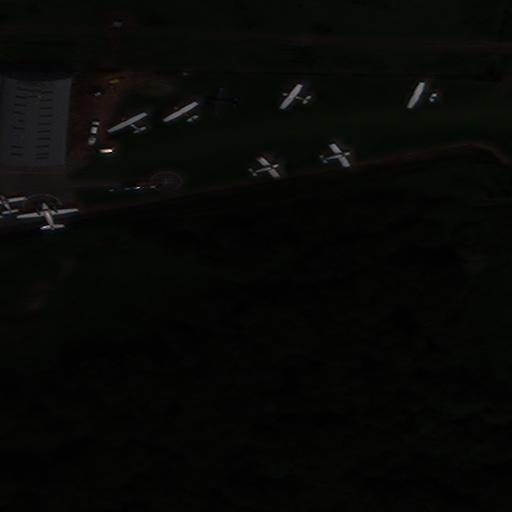Small Civil Transport: (16, 202, 77, 231), (206, 87, 238, 114), (105, 111, 144, 132), (406, 81, 437, 107), (278, 83, 309, 108), (320, 141, 351, 166), (249, 155, 281, 177), (161, 100, 194, 120), (0, 194, 25, 214)
